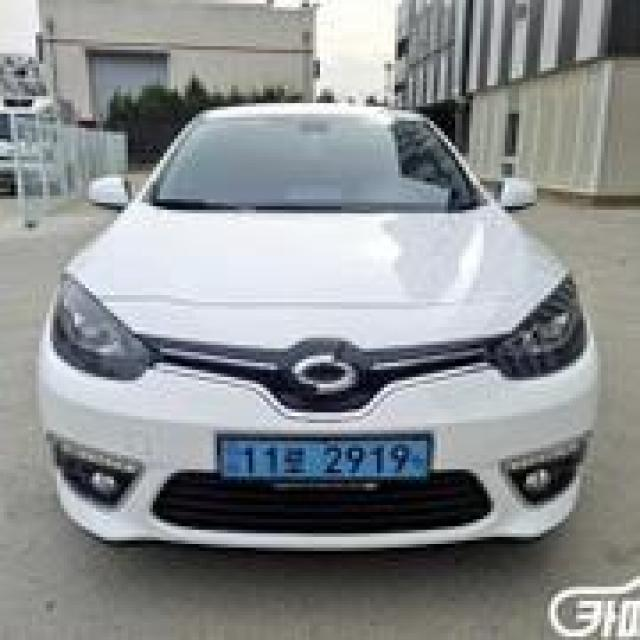EV_plate: (219, 428, 438, 496)
car: (39, 95, 608, 567)
